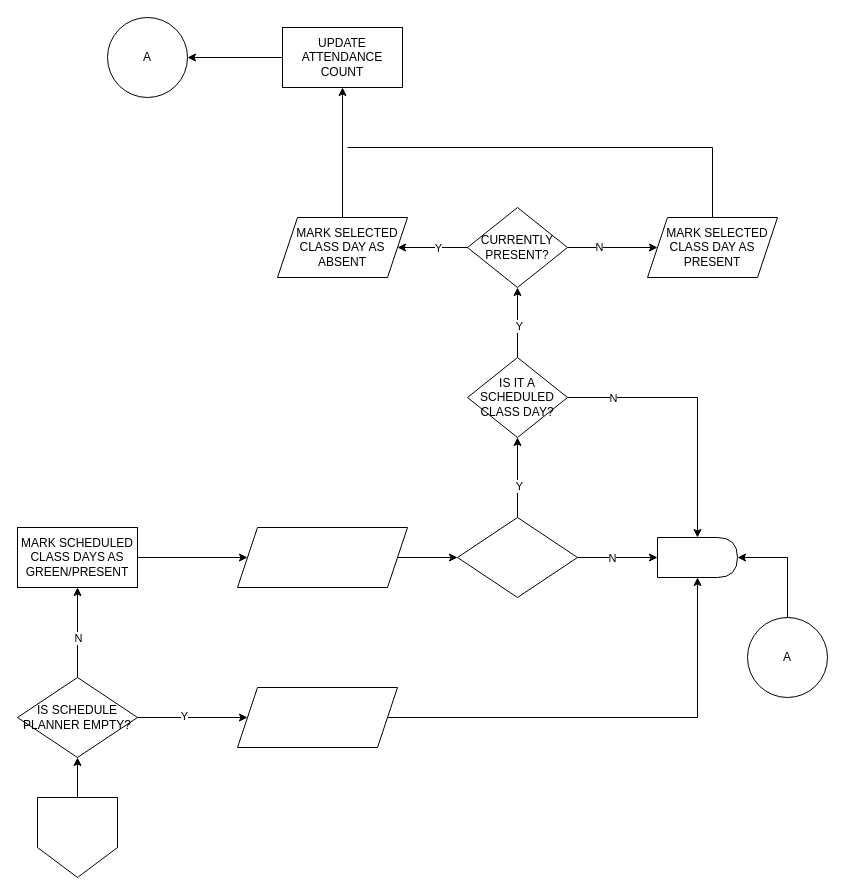
This 845x895 diagram has some shape labels left out. Each missing label, with the box of its shape:
ATTENDANCE TRACKER: (36, 796, 118, 878)
DISPLAY RENDERED SCHEDULE: (236, 526, 408, 588)
SHOW "SCHEDULE IS EMPTY MESSAGE": (236, 686, 398, 748)
USER CLICKS A DAY?: (456, 516, 578, 598)
WAIT FOR USER INPUT: (656, 536, 738, 578)
